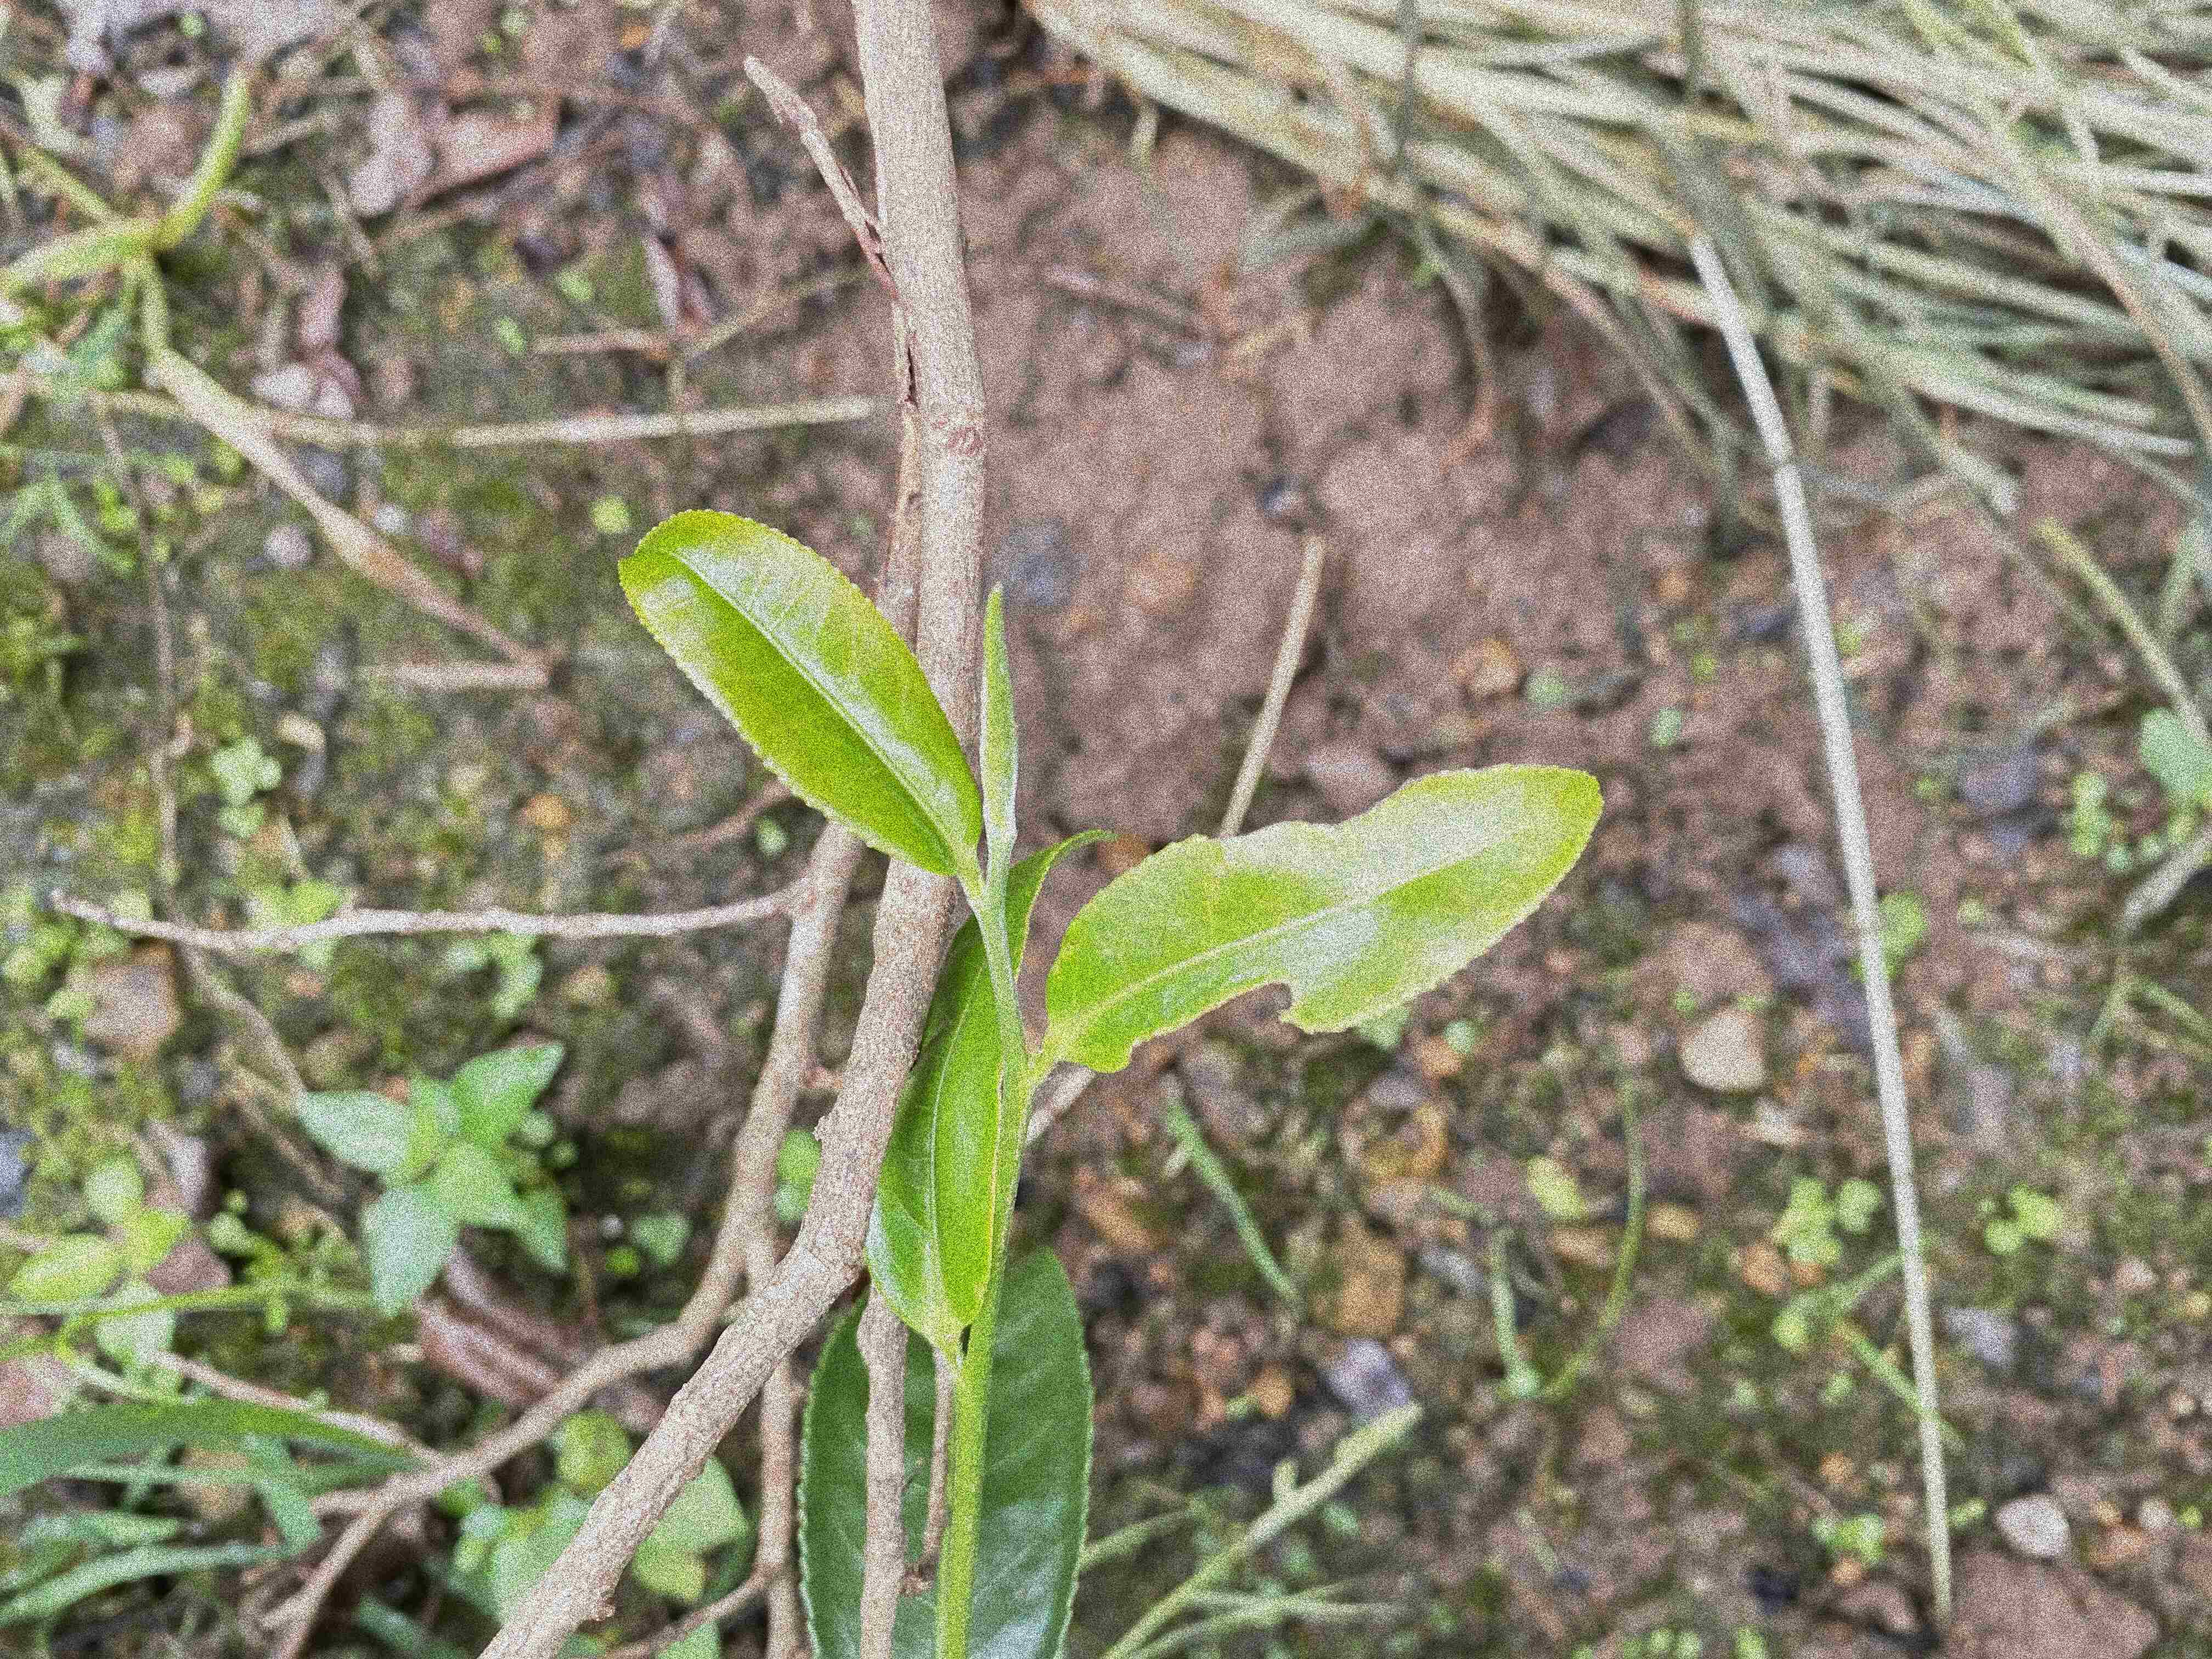chihuo_high: (1043, 758, 1604, 1073)
healthy: (620, 507, 977, 878), (864, 828, 1116, 1347)
